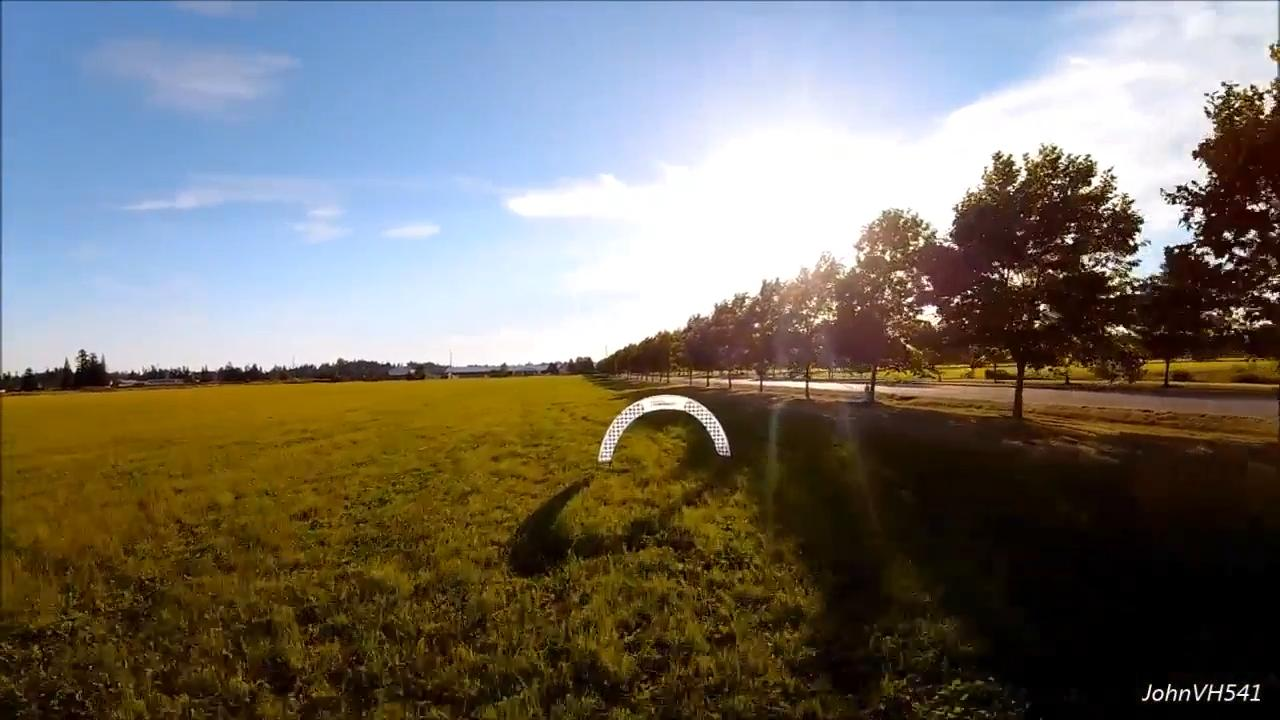gate: (597, 395, 733, 462)
